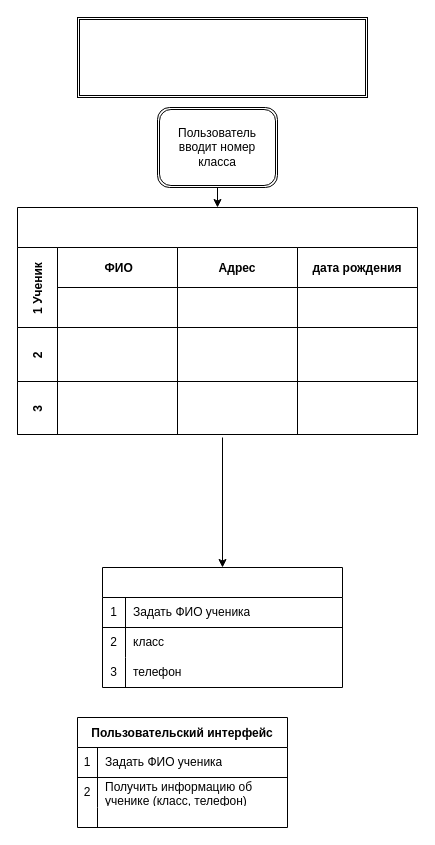
The diagram is 435 pixels wide and 845 high, and some of its shapes have lost their labels. The box of each missing label's shape, as (x1, y1, x2, y2) in pixels:
Список учеников (таблица в виде файла): (16, 206, 418, 434)
Сценарий Электронного школьного журнала: (76, 16, 368, 98)
Что вы хотите узнать (сделать выбор)?: (102, 566, 342, 688)
